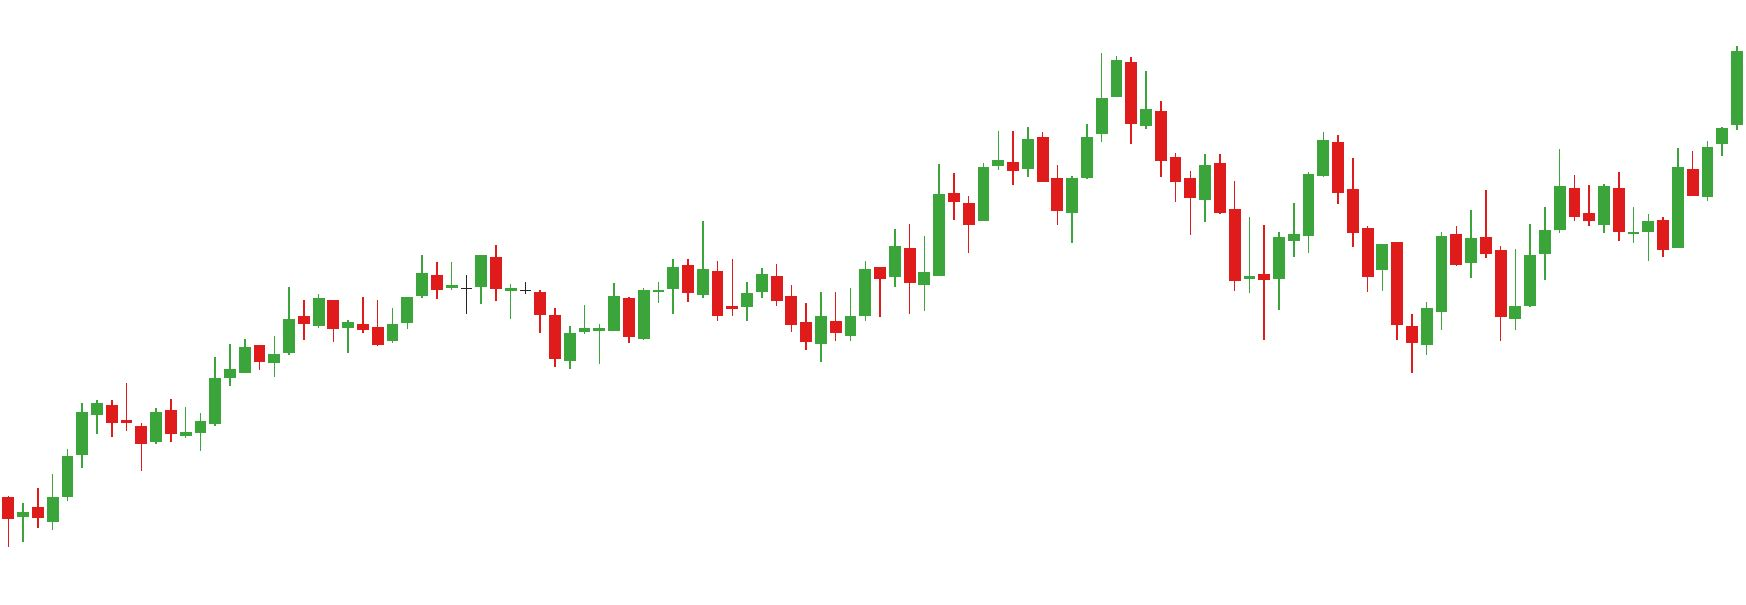buy: (344, 293, 576, 367), (618, 287, 828, 364)
sell: (1199, 128, 1347, 242)
